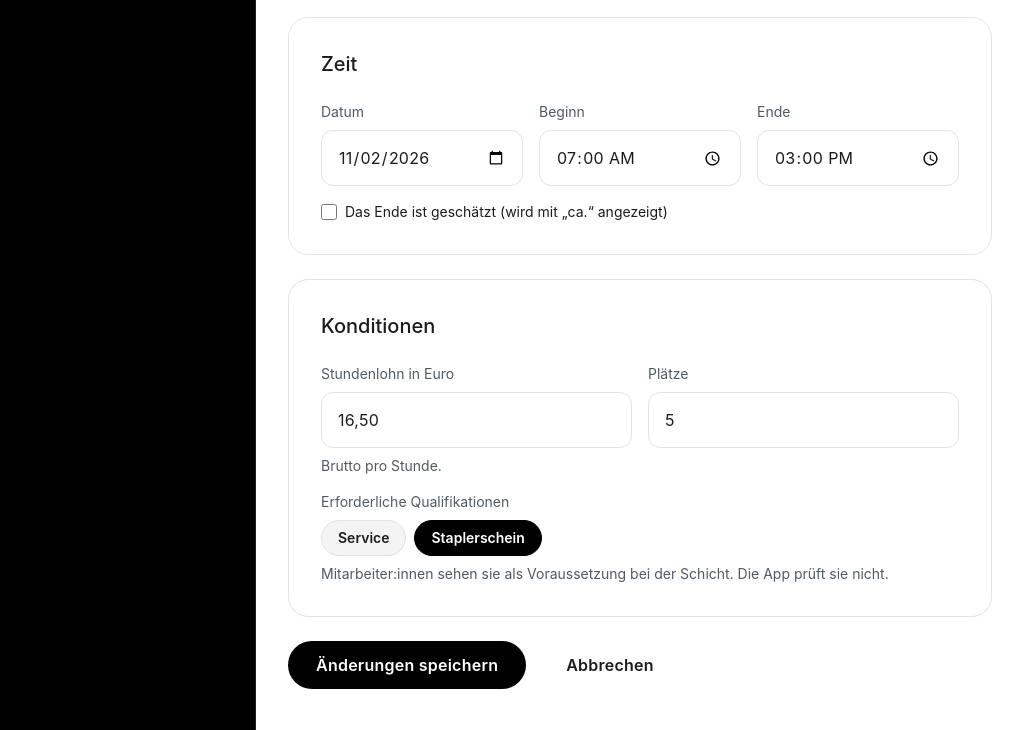
editing a shift › keeps the spots at or above the ones taken
(page scrolled)
Replace the text in the number field labelled "Plätze" with "1" at (804, 420), box [648,392,959,448]
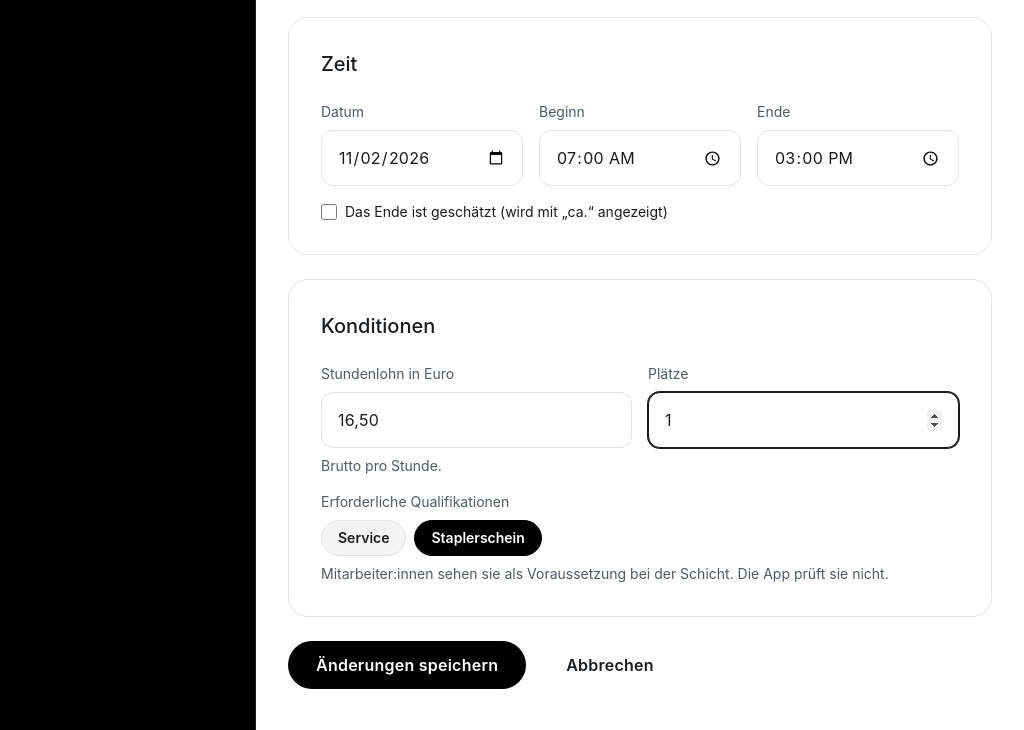
Click the button "Änderungen speichern".
click(407, 665)  # box [288,641,526,689]
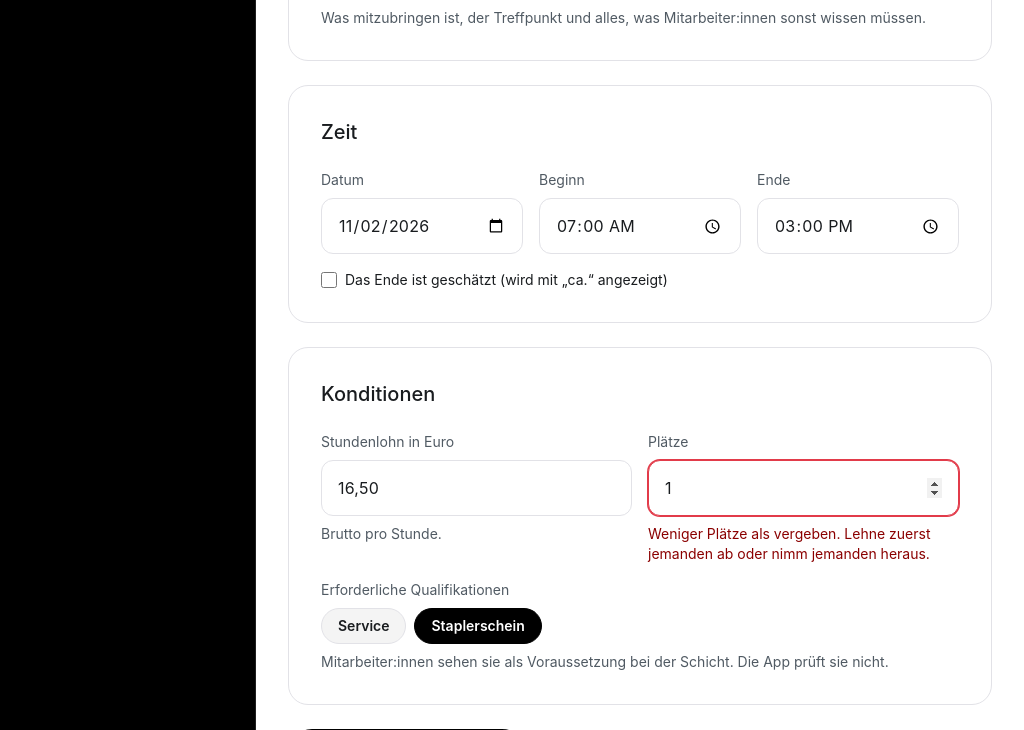
Expected: the text "Weniger Plätze als vergeben. Lehne zuerst jemanden ab oder nimm jemanden heraus." is shown, [648,524,959,564]
